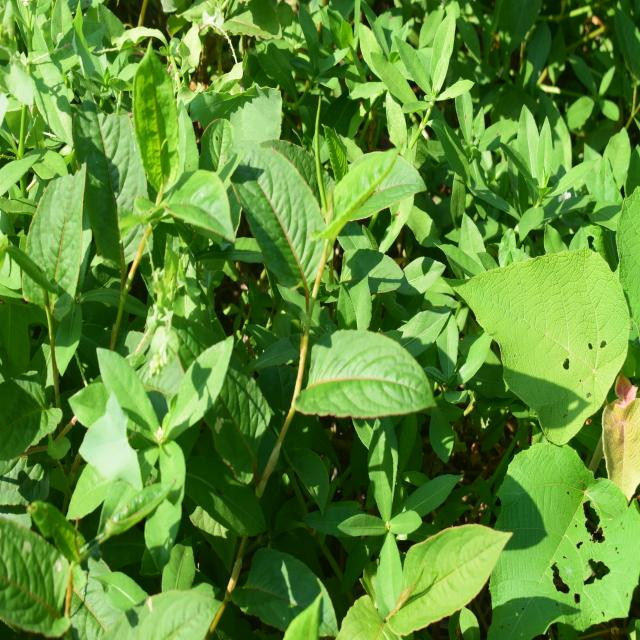Chinese_knotweed: (224, 150, 434, 414)
